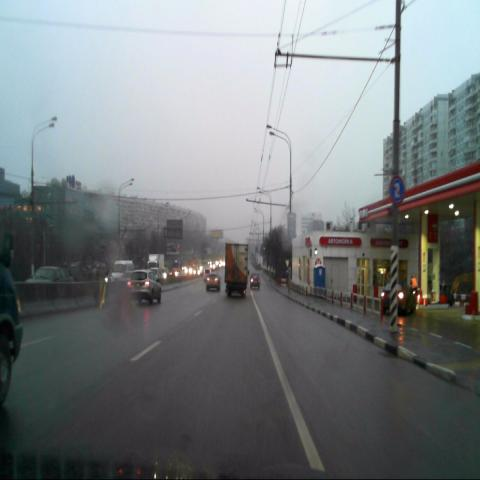3_30: (389, 175, 404, 203)
